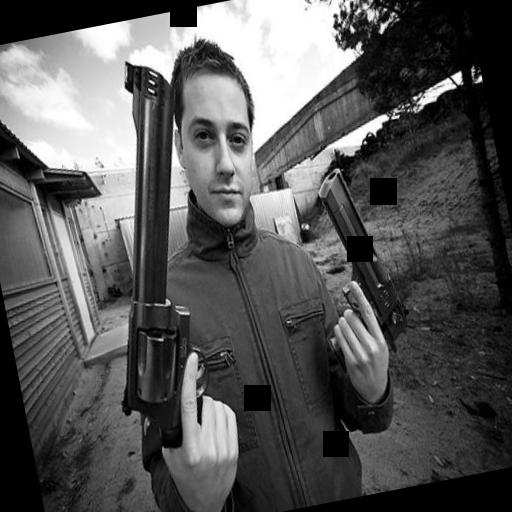Handgun: (56, 49, 243, 458), (294, 156, 414, 378)
